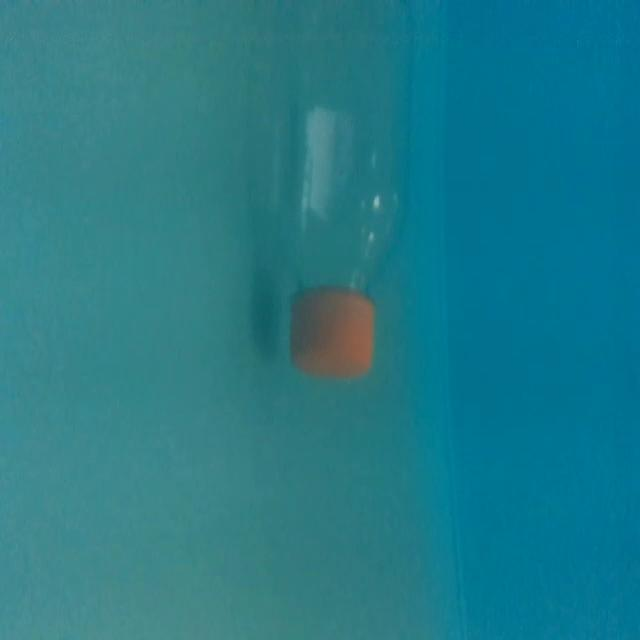plastic bottle: (243, 2, 424, 385)
